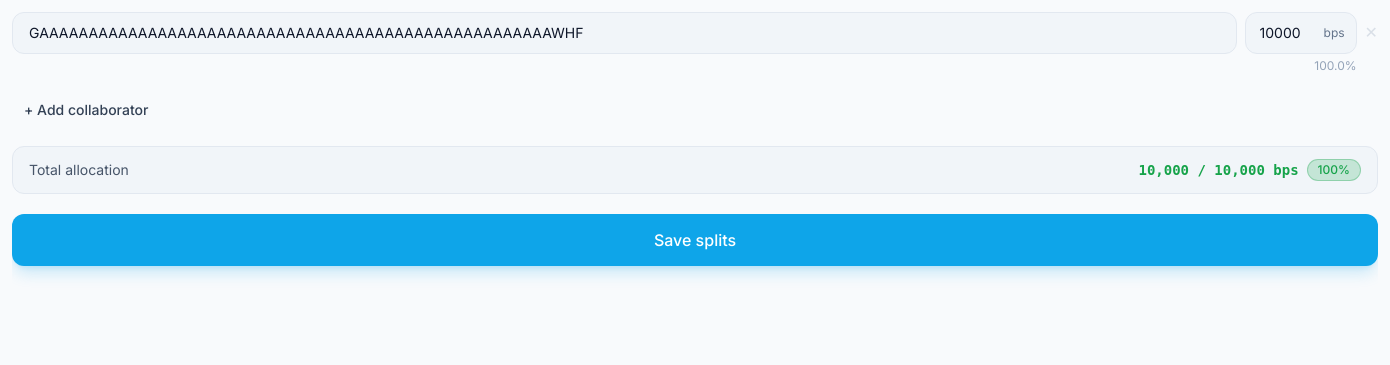
Test: SplitsManager – add and remove rows › adds a new empty row when '+ Add collaborator' is clicked
The image size is (1390, 365).
Click the button "+ Add collaborator" at [86, 110], box left=12, top=94, right=160, bottom=126
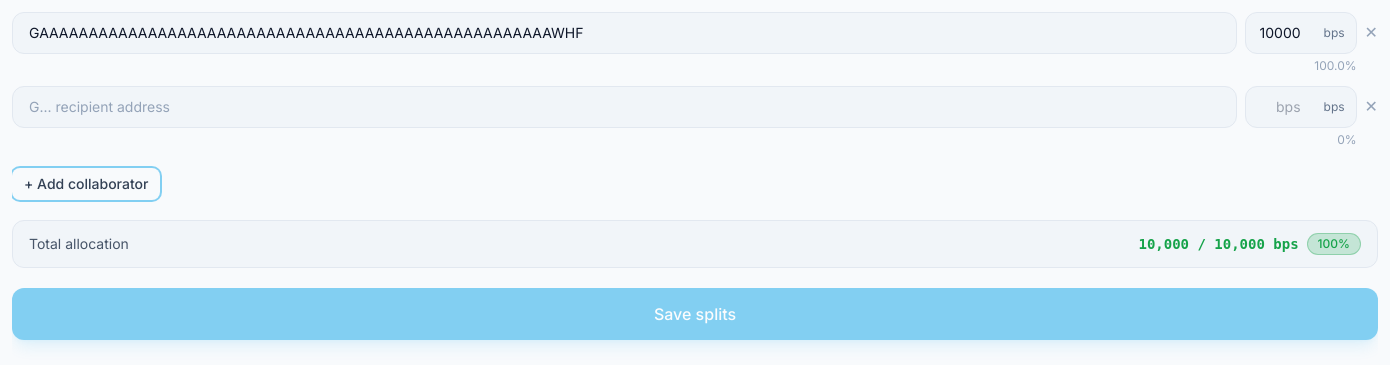
Now the number of fields is 2, box left=12, top=12, right=1237, bottom=54; left=12, top=86, right=1237, bottom=128
